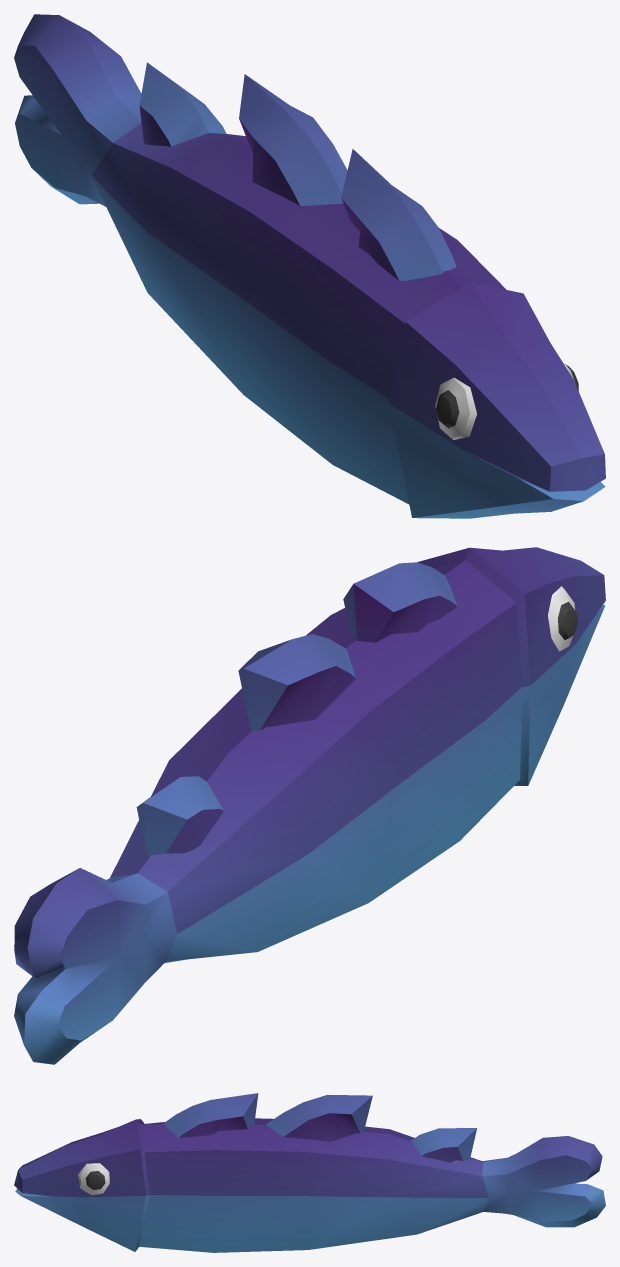
The model's file is Fish_2_B.glb.
3 views of the same model, one above another, from view 1: azimuth 30°, elevation 25°; view 2: azimuth 150°, elevation 25°; view 3: azimuth 270°, elevation 25° (orthographic). The views are drawn at different scales.
Visible parts, largest first — view 1: Fish_2_B; view 2: Fish_2_B; view 3: Fish_2_B.
Part boxes in pixels (x1,y1,x2,y2): Fish_2_B: [14, 14, 605, 518]; Fish_2_B: [14, 547, 605, 1064]; Fish_2_B: [14, 1093, 605, 1252].
Size of the model in its own units: 0.1094 by 0.1904 by 0.6612.
1 material, 1 textured.
